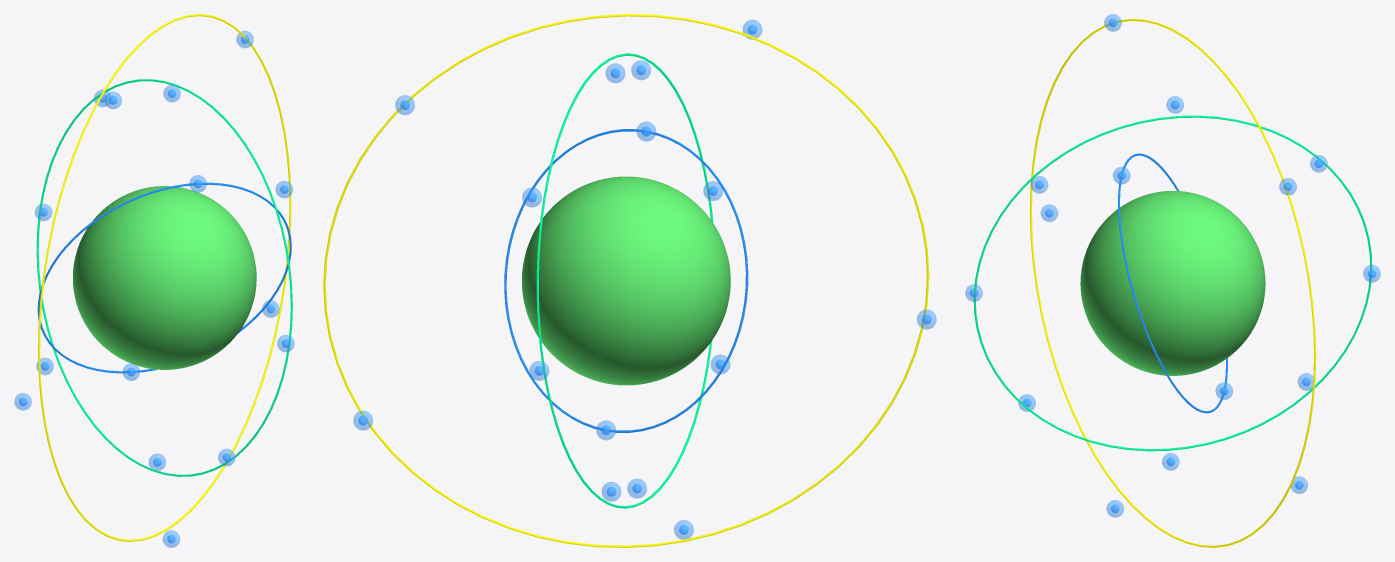
3 views of the same model, side by side, from view 1: azimuth 30°, elevation 25°; view 2: azimuth 150°, elevation 25°; view 3: azimuth 270°, elevation 25° (orthographic). The views are drawn at different scales.
Visible parts, largest first — view 1: P, object 24, object 7, object 2; view 2: P, object 24, object 7, object 2; view 3: P, object 24, object 7, object 2.
Boxes of the visible parts, box(x1,y1,x2,y2) form: P: box(73, 186, 256, 369); object 24: box(38, 14, 291, 541); object 7: box(36, 79, 292, 476); object 2: box(37, 182, 291, 373); P: box(522, 176, 730, 385); object 24: box(323, 14, 929, 547); object 7: box(536, 53, 713, 508); object 2: box(504, 129, 748, 432); P: box(1080, 191, 1265, 375); object 24: box(1029, 19, 1316, 547); object 7: box(973, 115, 1372, 451); object 2: box(1118, 153, 1227, 413).
Size of the model in its own units: 4.24 by 4.83 by 3.73.
